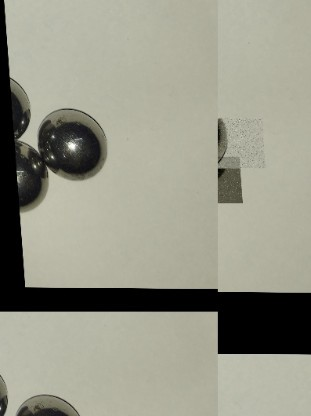ironball: (38, 103, 114, 182), (15, 135, 51, 216), (10, 387, 82, 416), (10, 68, 33, 134)
